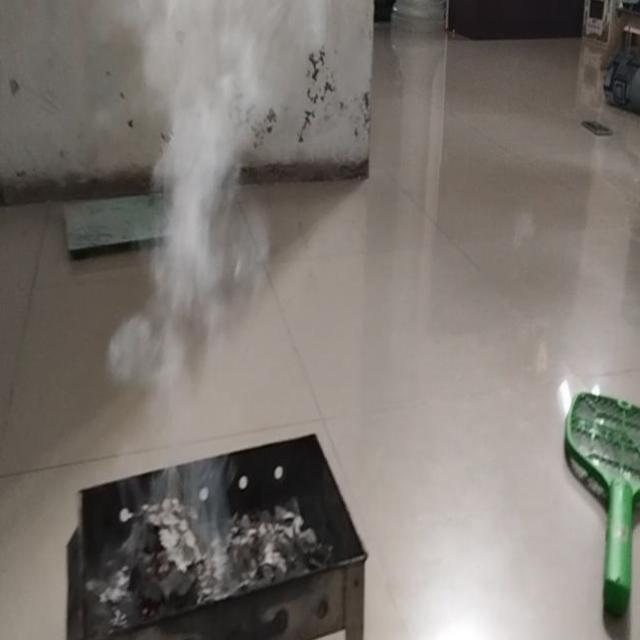fire: (144, 13, 272, 366)
